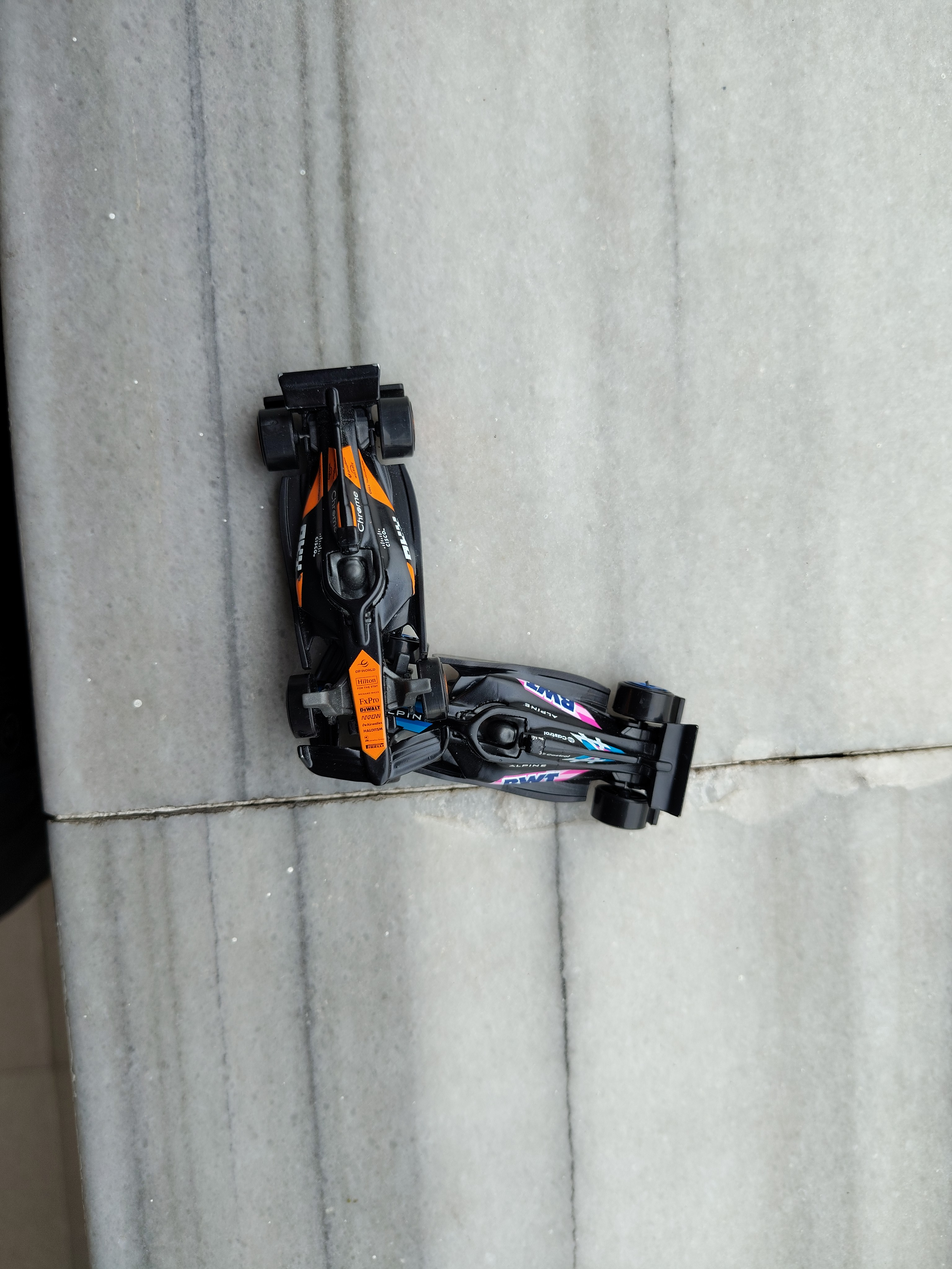Alpine A524: (409, 617, 700, 861)
McLaren MCL40: (158, 283, 477, 806)
